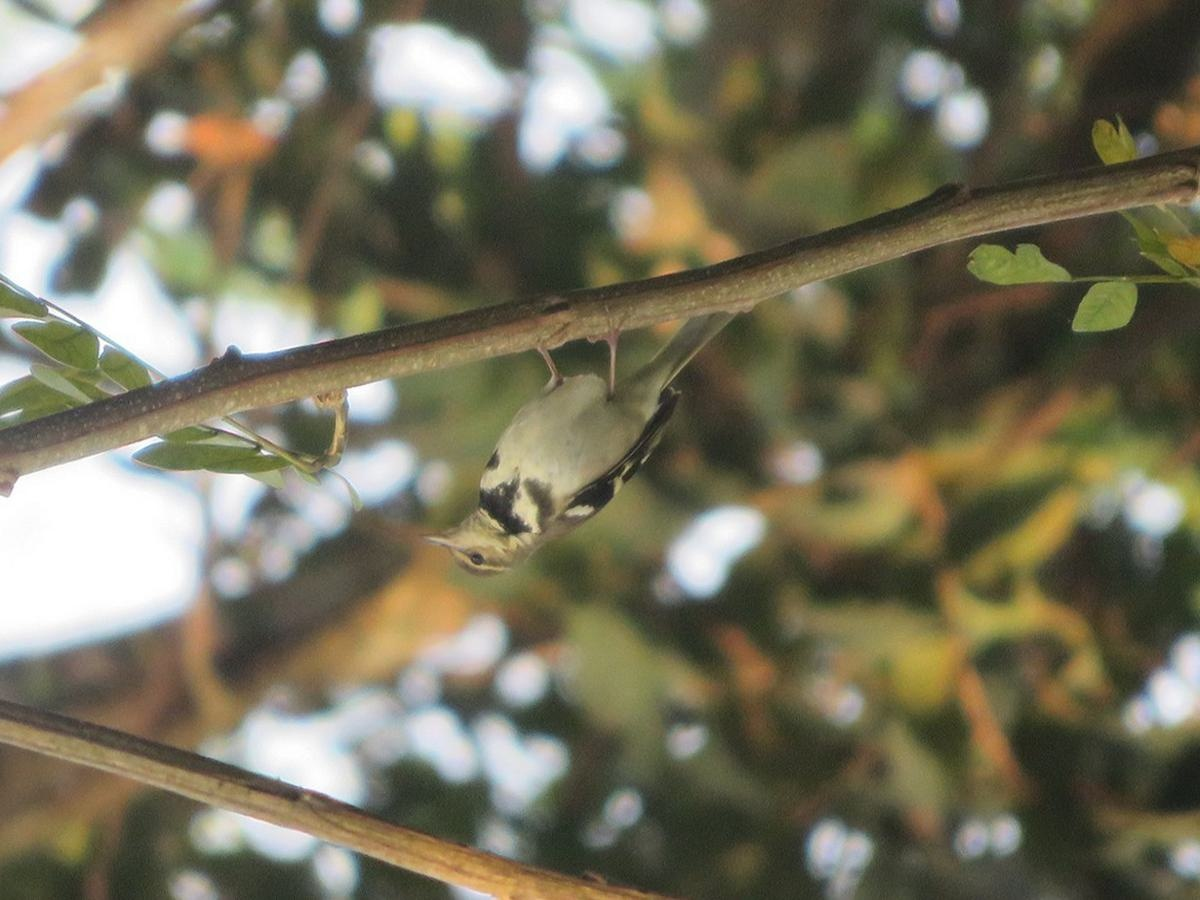wagtail: (420, 290, 754, 580)
